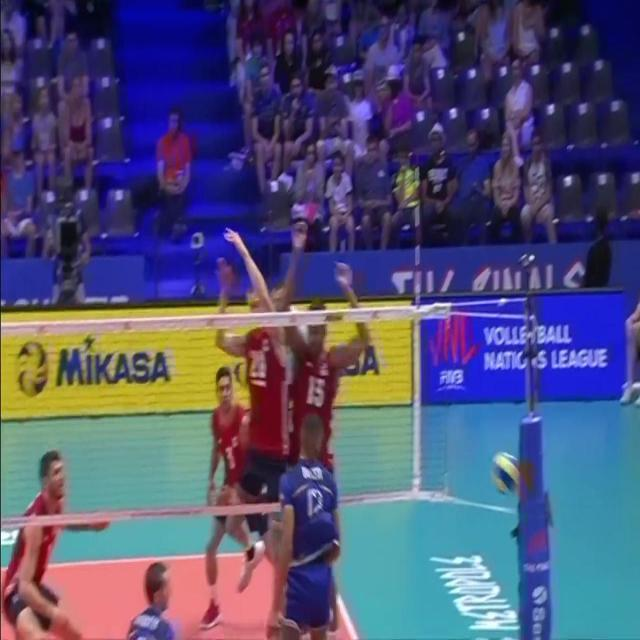volleyball: (488, 450, 522, 495)
